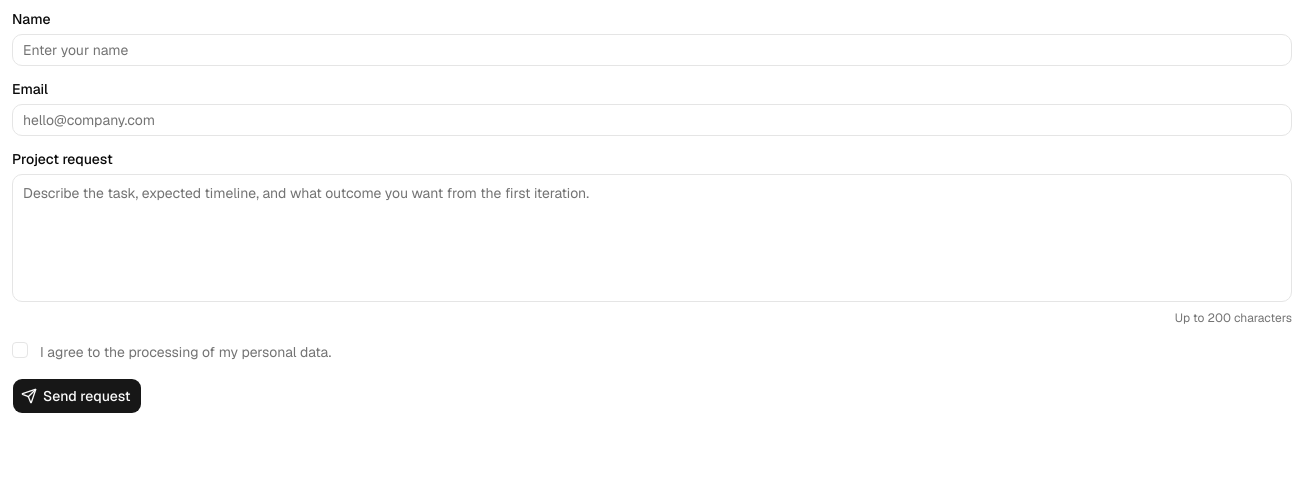
Test case: LeadForm › renders a request error after a failed submission
The width and height of the screenshot is (1304, 488).
Type "Ada Lovelace" into the field labelled "Name".
click(652, 50); type("Ada Lovelace")  # box x1=12 y1=34 x2=1292 y2=66
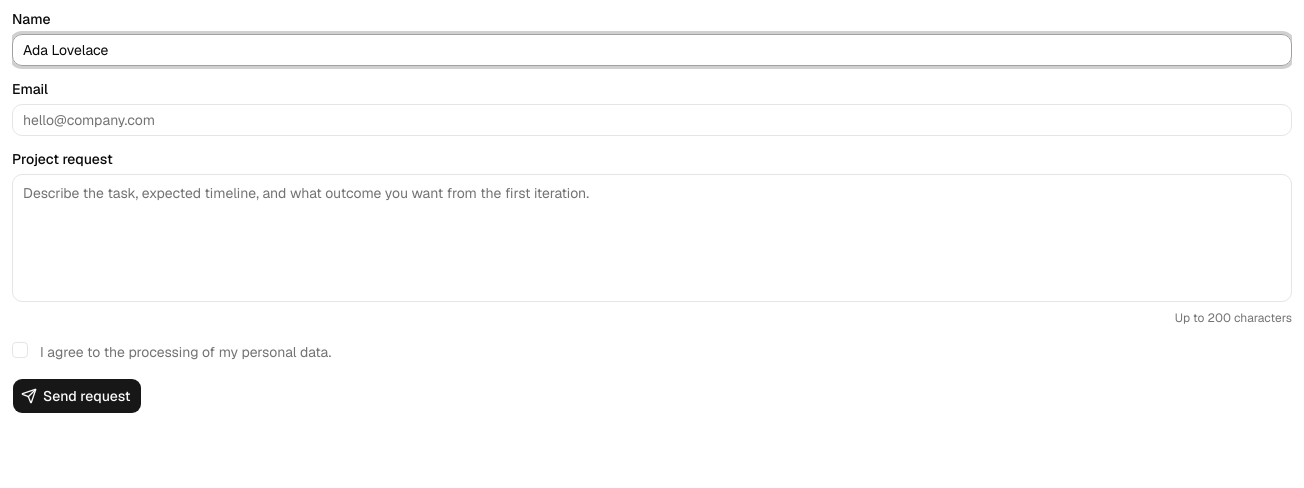
Type "ada@example.com" into the field labelled "Email".
click(652, 120); type("ada@example.com")  # box x1=12 y1=104 x2=1292 y2=136
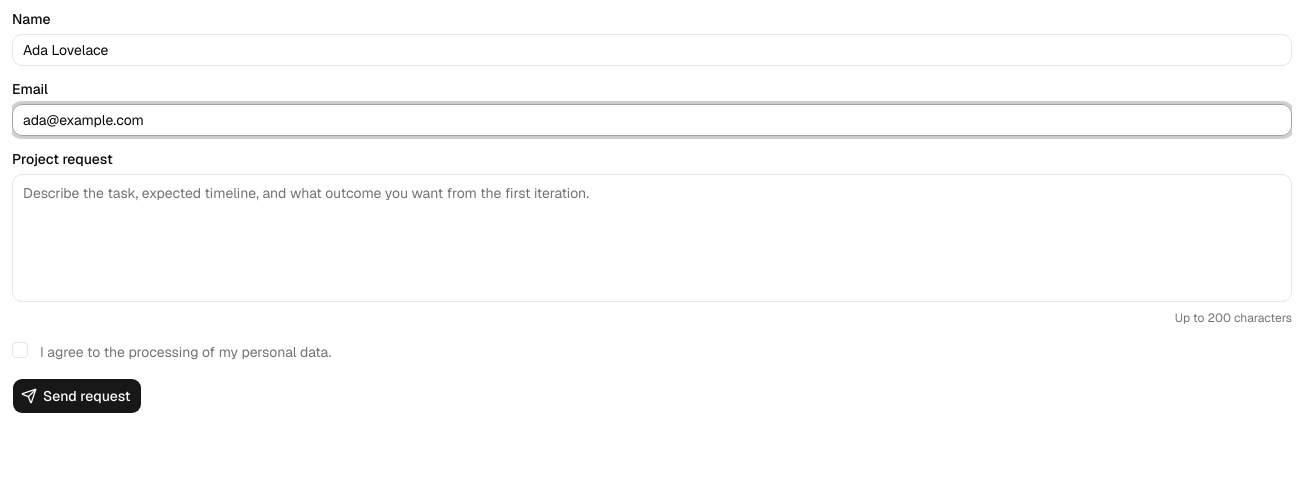
Type "Build a reliable lead intake flow." into the text box labelled "Project request".
click(652, 238); type("Build a reliable lead intake flow.")  # box x1=12 y1=174 x2=1292 y2=302
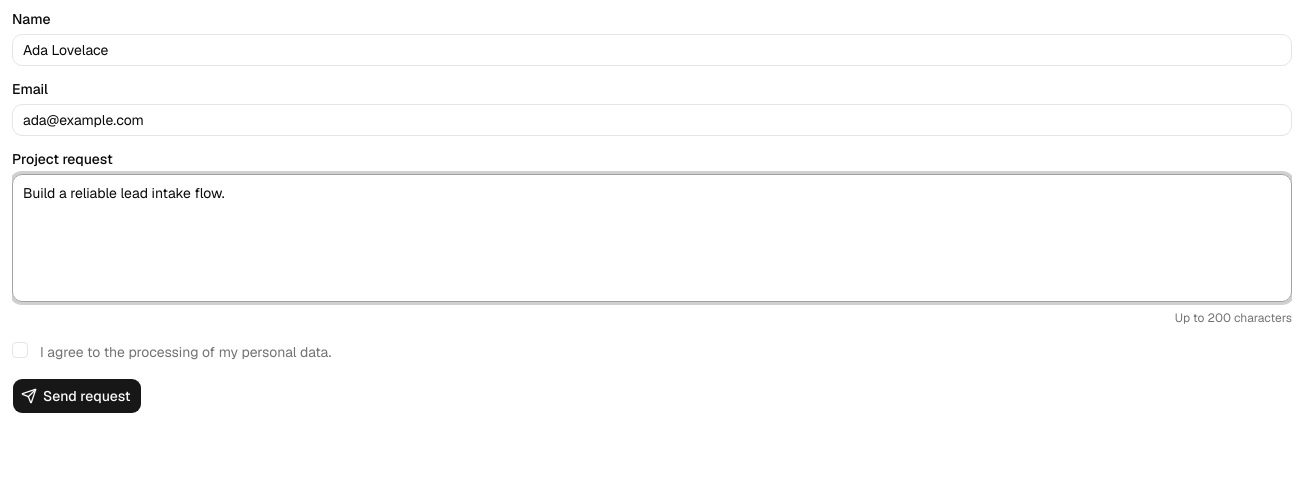
Click the checkbox named "I agree to the processing of my personal data.".
click(20, 350)  # box x1=12 y1=342 x2=28 y2=358
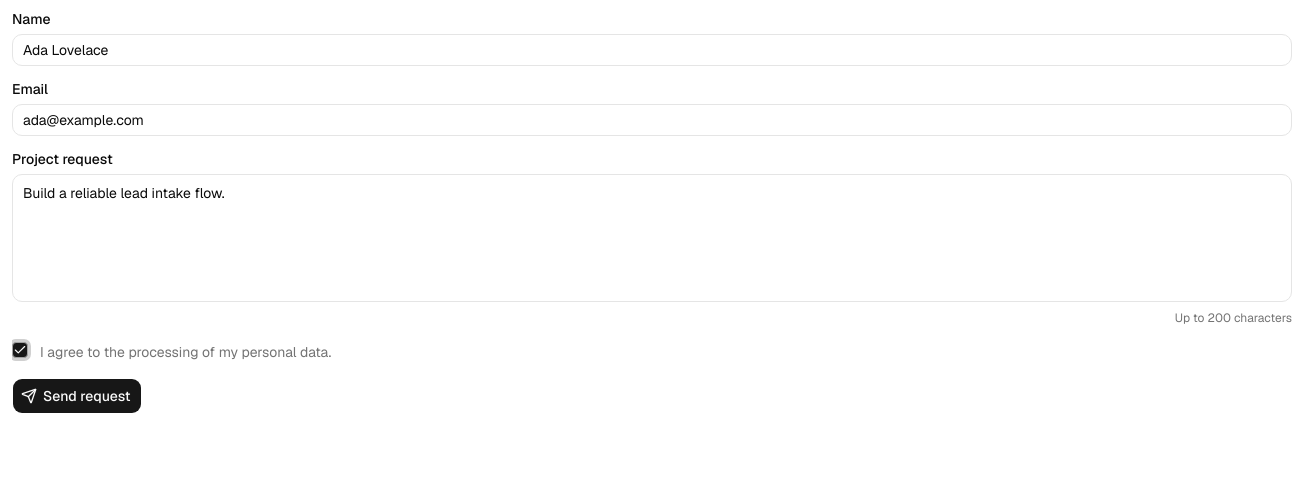
Click the button "Send request".
click(77, 396)  # box x1=12 y1=378 x2=142 y2=414
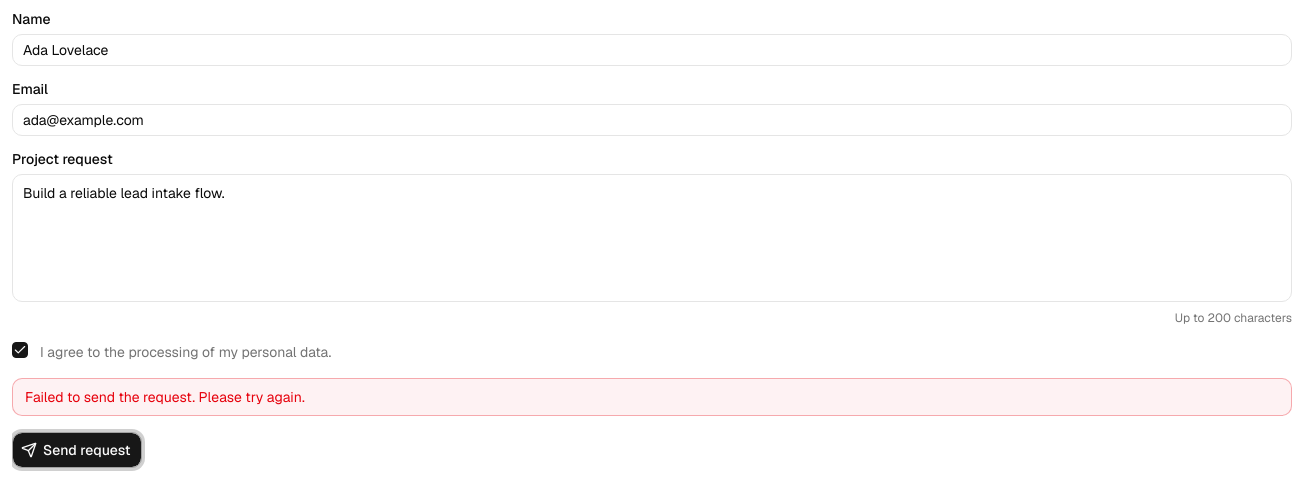
Expected: the text "Failed to send the request. Please try again." is shown, x1=12 y1=378 x2=1292 y2=416
